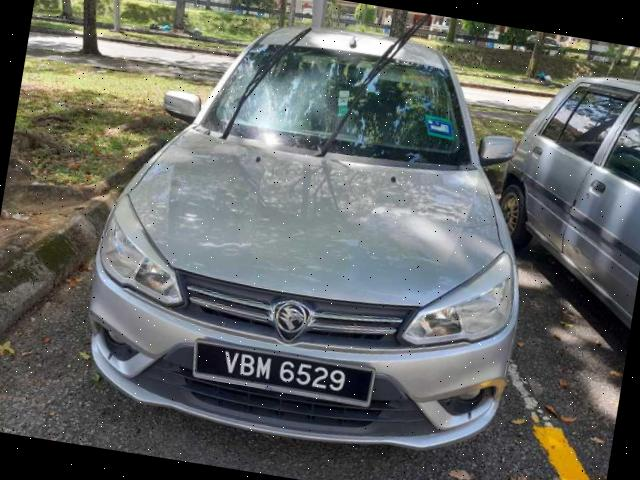License_Plate: (188, 338, 378, 410)
car: (70, 1, 559, 471), (482, 60, 640, 331)
